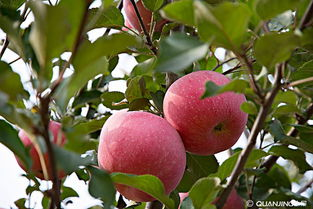obscured(1)_apple: (159, 71, 252, 156)
obscured(2)_apple: (97, 110, 188, 205)
